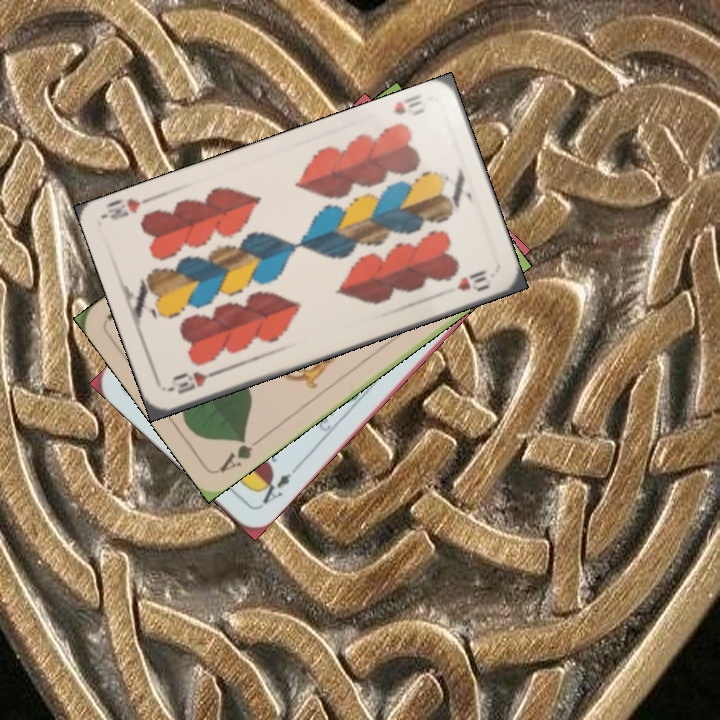EA: (253, 468, 294, 510)
GA: (215, 432, 266, 475)
H10: (165, 365, 222, 397), (389, 91, 427, 119)
